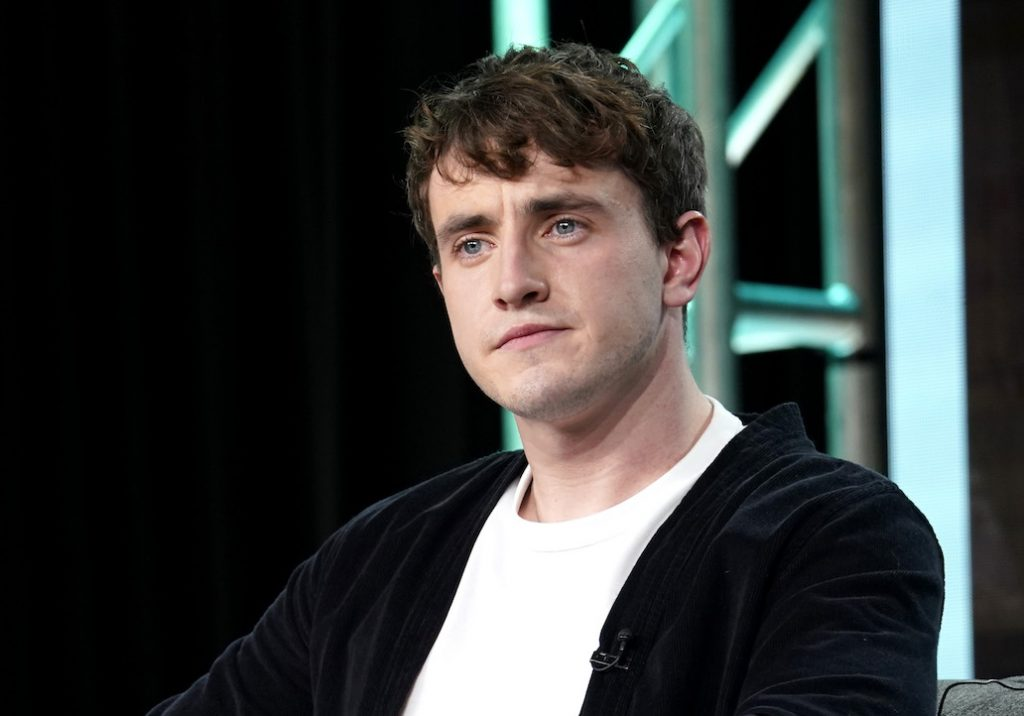without_mask: (435, 189, 632, 410)
